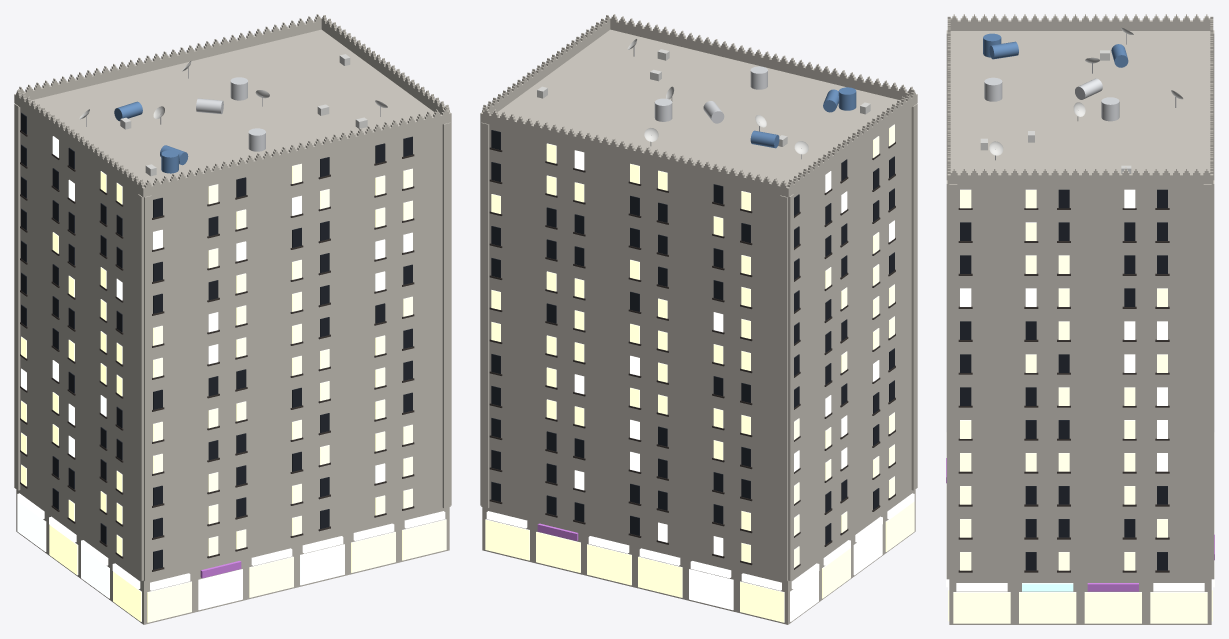
Rendered from SM_RiyadhBlock_05.fbx.
3 renders of one model, left to right at view 1: azimuth 30°, elevation 25°; view 2: azimuth 150°, elevation 25°; view 3: azimuth 270°, elevation 25°, orthographic. The views are drawn at different scales.
Parts seen in each view (by area): view 1: SM_RiyadhBlock_05; view 2: SM_RiyadhBlock_05; view 3: SM_RiyadhBlock_05.
Part boxes in pixels (x1,y1,x2,y2): SM_RiyadhBlock_05: (14,14,451,624); SM_RiyadhBlock_05: (480,14,917,624); SM_RiyadhBlock_05: (946,14,1214,624).
Size of the model in its own units: 3662 by 5017 by 2662.
